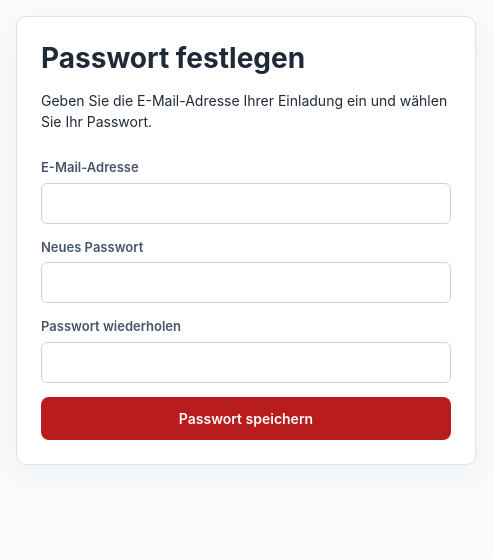
Test: ChangePassword invitation › requires the email address before contacting the API
Click the button "Passwort speichern": coordinates (246, 418) [41, 396, 451, 440]
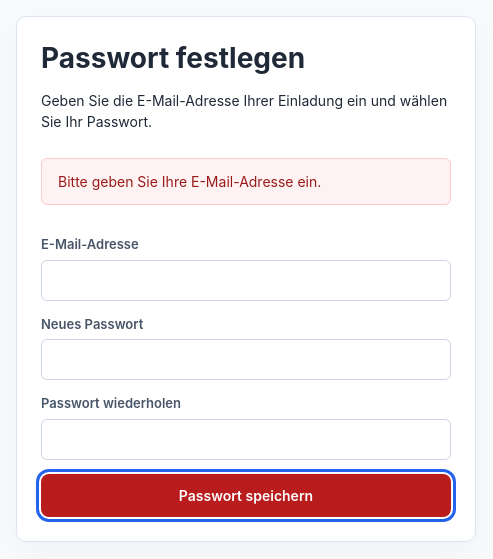
Check: the message shows "E-Mail-Adresse", box [58, 173, 321, 190]
